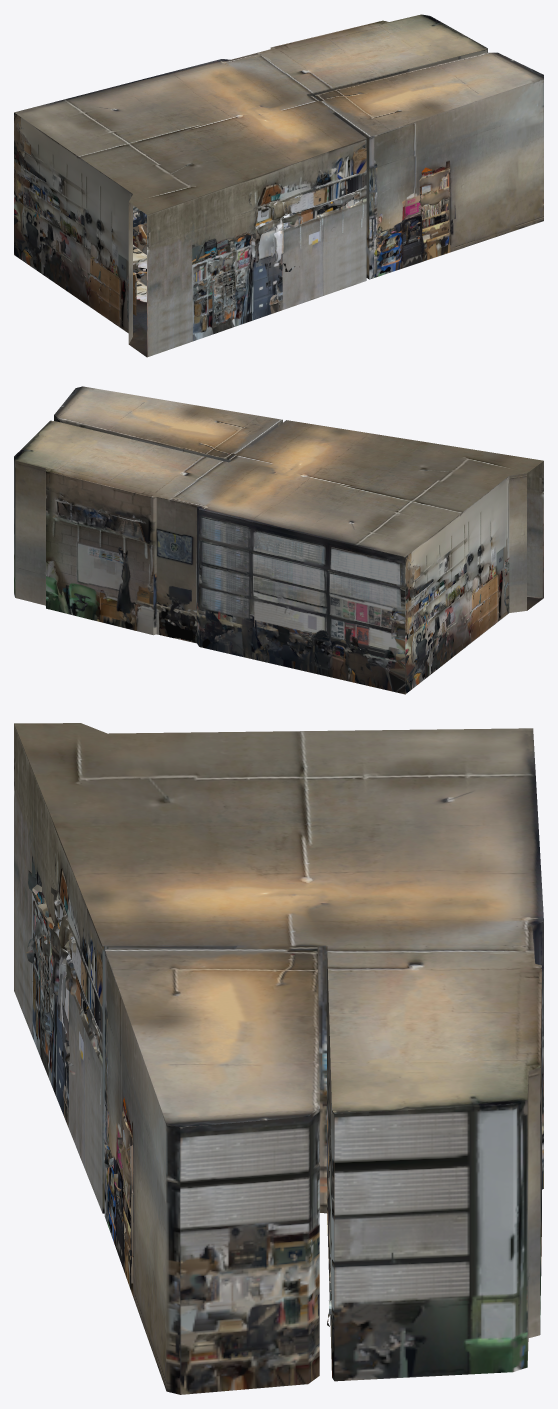
3 views of the same model, one above another, from view 1: azimuth 30°, elevation 25°; view 2: azimuth 150°, elevation 25°; view 3: azimuth 270°, elevation 25° (orthographic). The views are drawn at different scales.
Parts seen in each view (by area): view 1: M115-LP; view 2: M115-LP; view 3: M115-LP.
Part boxes in pixels (box(x1,y1,x2,y2)): M115-LP: box(14, 14, 543, 357); M115-LP: box(14, 386, 543, 694); M115-LP: box(14, 723, 543, 1394).
Bounding box in the file's own units: 1030 × 317 × 570.
Materials: 1 (1 with a texture image).
